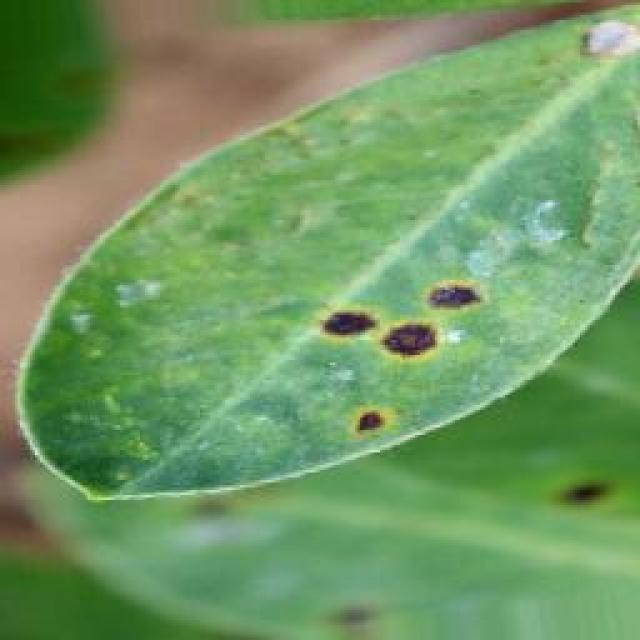Sigatoka: (284, 244, 472, 366), (344, 393, 410, 454)
